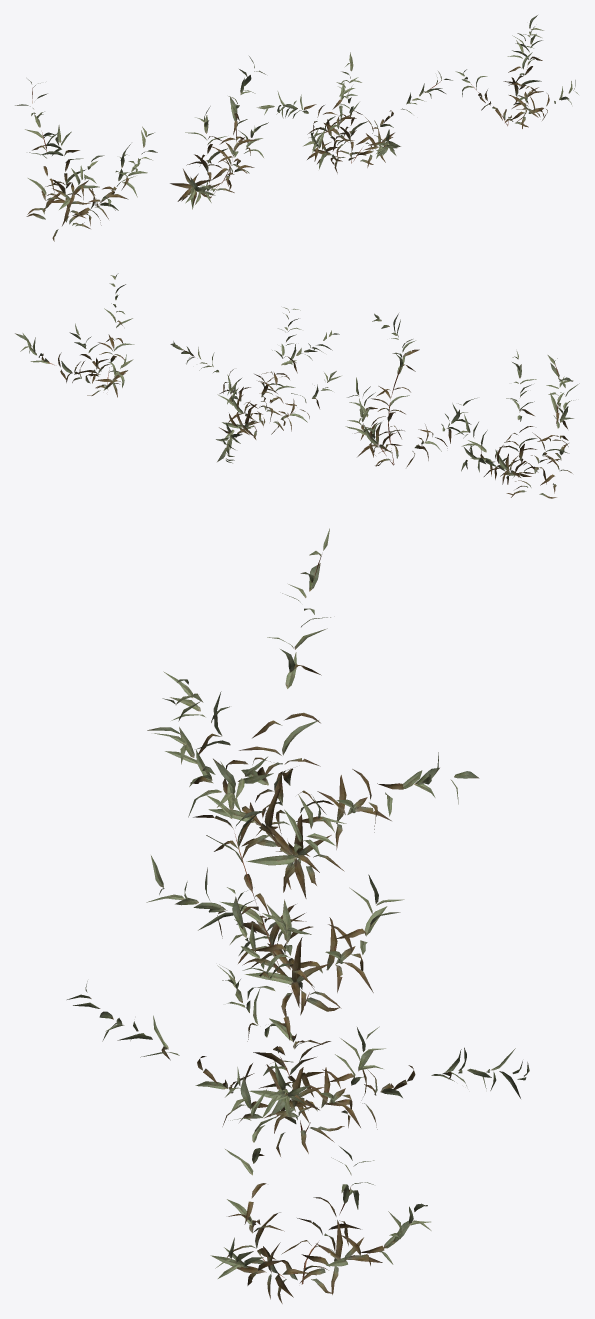
The picture shows the model from 3 angles, top to bottom: view 1: azimuth 30°, elevation 25°; view 2: azimuth 150°, elevation 25°; view 3: azimuth 270°, elevation 25°; orthographic projection. The views are drawn at different scales.
Parts seen in each view (by area): view 1: shrub_02_a, shrub_02_c, shrub_02_b, shrub_02_d; view 2: shrub_02_c, shrub_02_a, shrub_02_b, shrub_02_d; view 3: shrub_02_a, shrub_02_c, shrub_02_b, shrub_02_d.
Part boxes in pixels (box(x1,y1,x2,y2)): shrub_02_a: box(15, 79, 157, 241); shrub_02_c: box(257, 52, 452, 173); shrub_02_b: box(170, 56, 268, 209); shrub_02_d: box(455, 15, 578, 128); shrub_02_c: box(170, 307, 340, 463); shrub_02_a: box(455, 351, 579, 498); shrub_02_b: box(345, 313, 476, 467); shrub_02_d: box(15, 273, 134, 397); shrub_02_a: box(147, 528, 479, 898); shrub_02_c: box(67, 887, 529, 1156); shrub_02_b: box(146, 757, 404, 1016); shrub_02_d: box(210, 1067, 431, 1303).
Size of the model in its own units: 6.05 by 1.7 by 2.28.
Materials: 1 (1 with a texture image).
